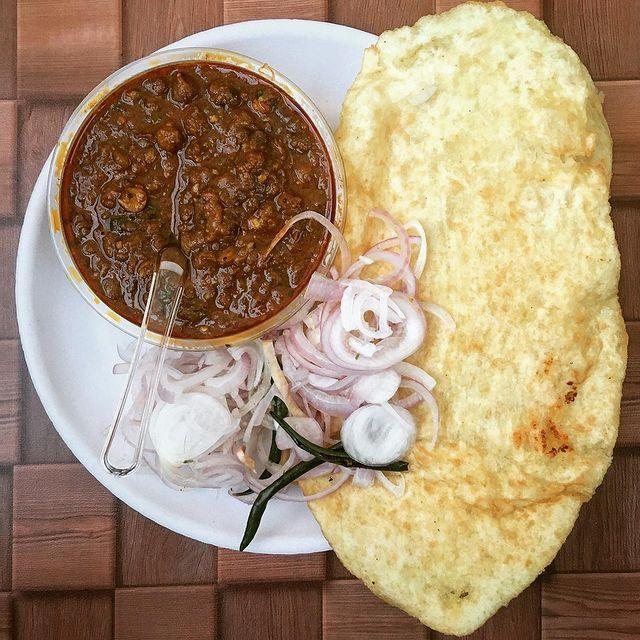Chole: (113, 70, 303, 256)
